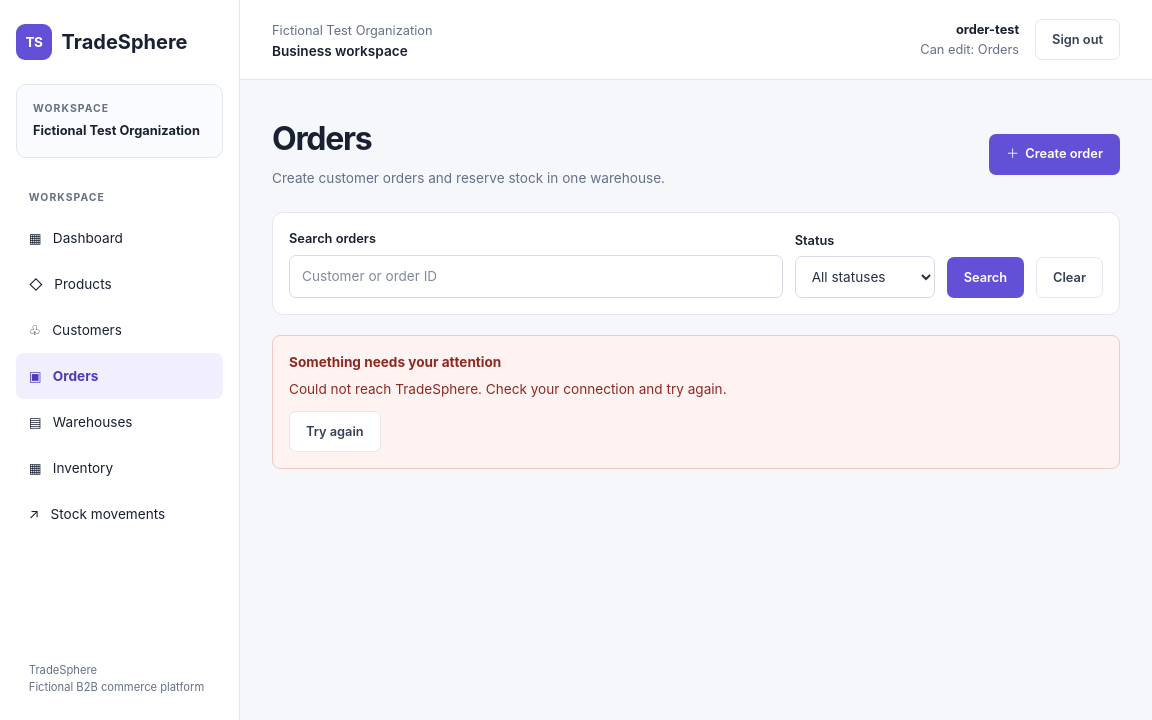
order interactions › recovers from a failed order list request and displays an honest empty state
Expected: the message shows "Could not reach TradeSphere", [289, 381, 727, 397]
Click the button "Try again".
click(335, 432)  # box [289, 411, 381, 452]
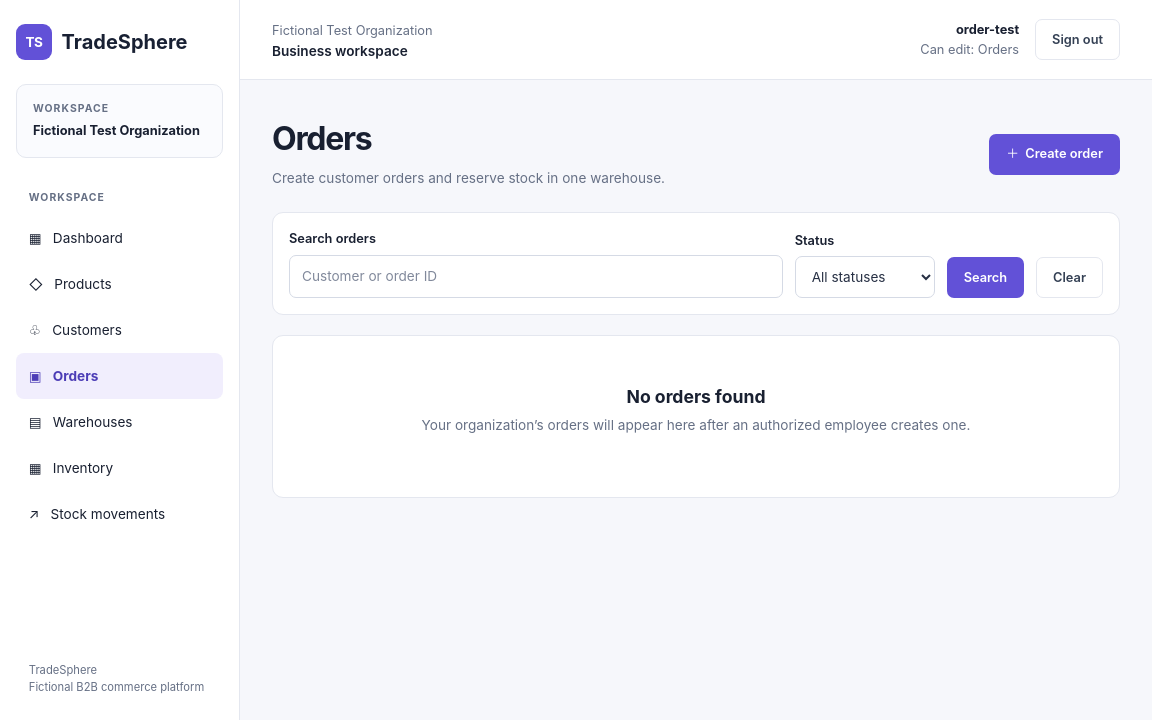
Now the heading "No orders found" is shown, box [626, 386, 766, 407]
